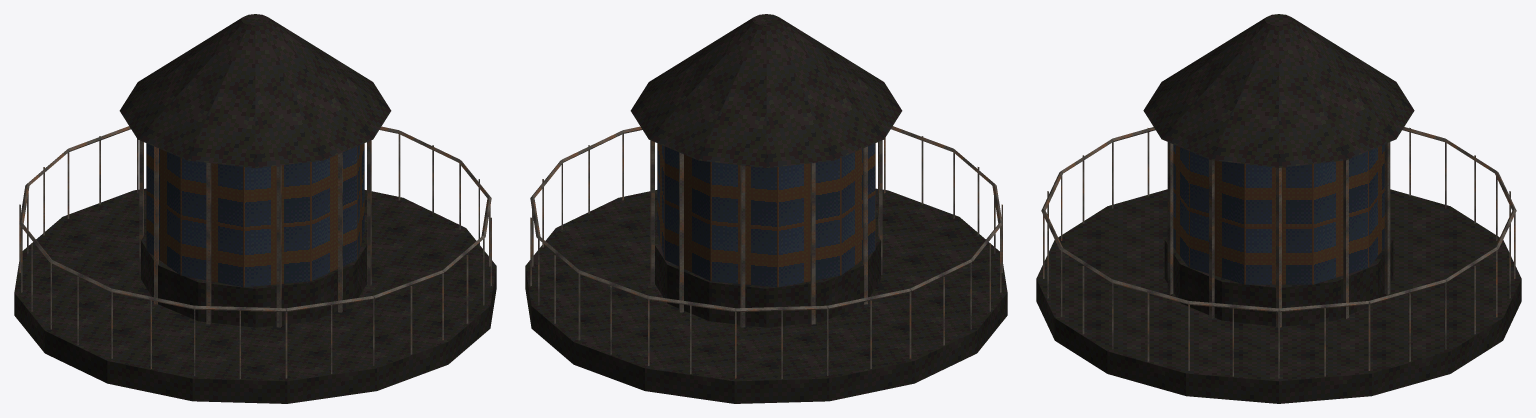
File: galeria_niebla.obj
3 views of the same model, side by side, from view 1: azimuth 30°, elevation 25°; view 2: azimuth 150°, elevation 25°; view 3: azimuth 270°, elevation 25° (orthographic).
Visible parts, largest first — view 1: galeria_niebla; view 2: galeria_niebla; view 3: galeria_niebla.
Part boxes in pixels (x1,y1,x2,y2): galeria_niebla: (14,14,496,403); galeria_niebla: (525,14,1007,403); galeria_niebla: (1036,14,1521,403).
Size of the model in its own units: 6.8 by 4.35 by 6.8.
4 materials, 4 textured.
